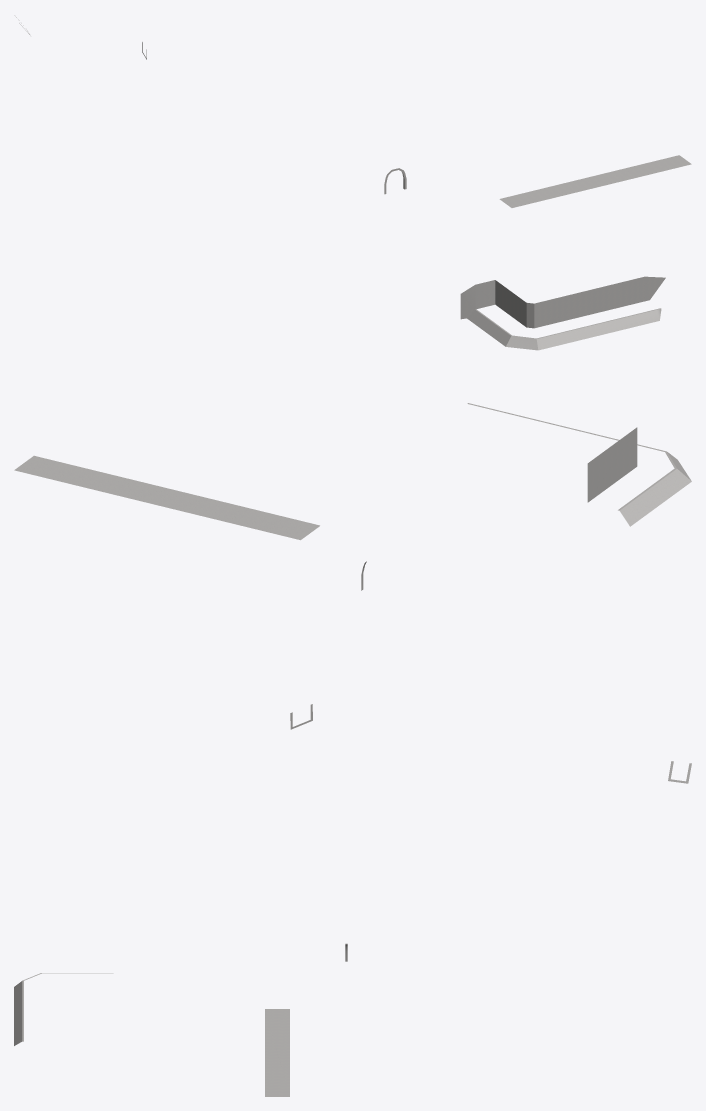
File: kd_stage_1366d7_0_10.glb
3 renders of one model, top to bottom at view 1: azimuth 30°, elevation 25°; view 2: azimuth 150°, elevation 25°; view 3: azimuth 270°, elevation 25°, orthographic. The views are drawn at different scales.
Parts seen in each view (by area): view 1: kd_stage_1366d7_0_10; view 2: kd_stage_1366d7_0_10; view 3: kd_stage_1366d7_0_10.
Part boxes in pixels (x1,y1,x2,y2): kd_stage_1366d7_0_10: [14, 15, 691, 350]; kd_stage_1366d7_0_10: [14, 403, 691, 729]; kd_stage_1366d7_0_10: [14, 761, 691, 1096].
Bounding box in the file's own units: 102 × 27.56 × 127.
Materials: 1 (1 with a texture image).
